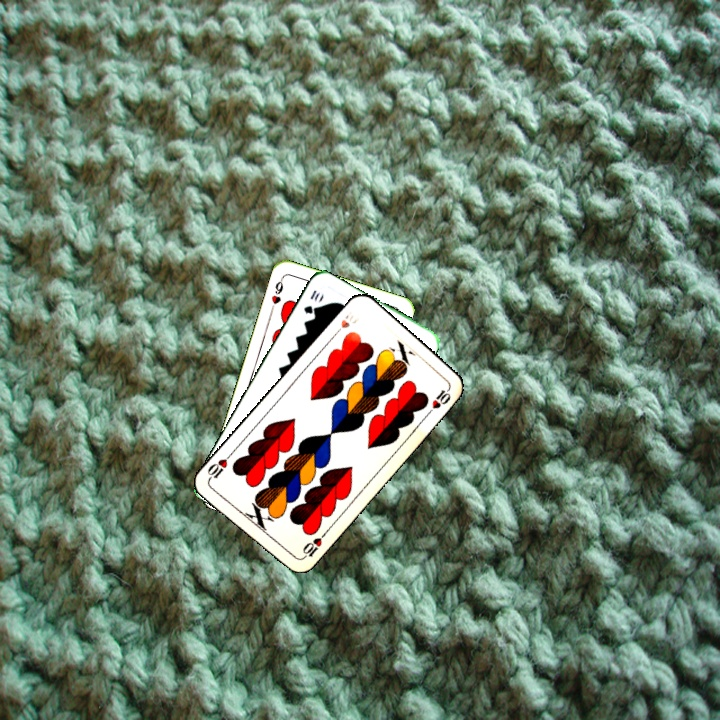G10: (300, 286, 322, 317)
H10: (329, 307, 362, 339), (298, 529, 328, 562)
H9: (267, 274, 286, 313)
